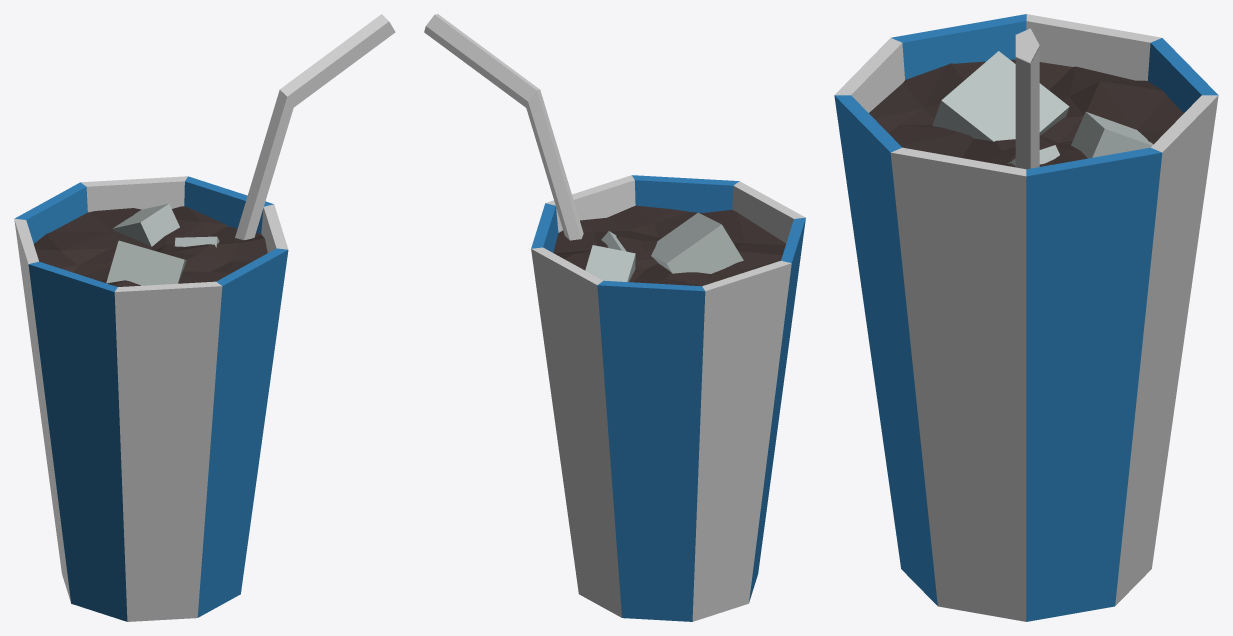
File: Cocktail_2_Blue_vc.fbx
The picture shows the model from 3 angles, left to right: view 1: azimuth 30°, elevation 25°; view 2: azimuth 150°, elevation 25°; view 3: azimuth 270°, elevation 25°; orthographic projection. The views are drawn at different scales.
Visible parts, largest first — view 1: Cocktail_2_Blue_vc; view 2: Cocktail_2_Blue_vc; view 3: Cocktail_2_Blue_vc.
Part boxes in pixels (x1,y1,x2,y2): Cocktail_2_Blue_vc: [14, 14, 395, 621]; Cocktail_2_Blue_vc: [424, 14, 805, 621]; Cocktail_2_Blue_vc: [834, 14, 1218, 621].
Bounding box in the file's own units: 30.69 × 41.15 × 20.66.
